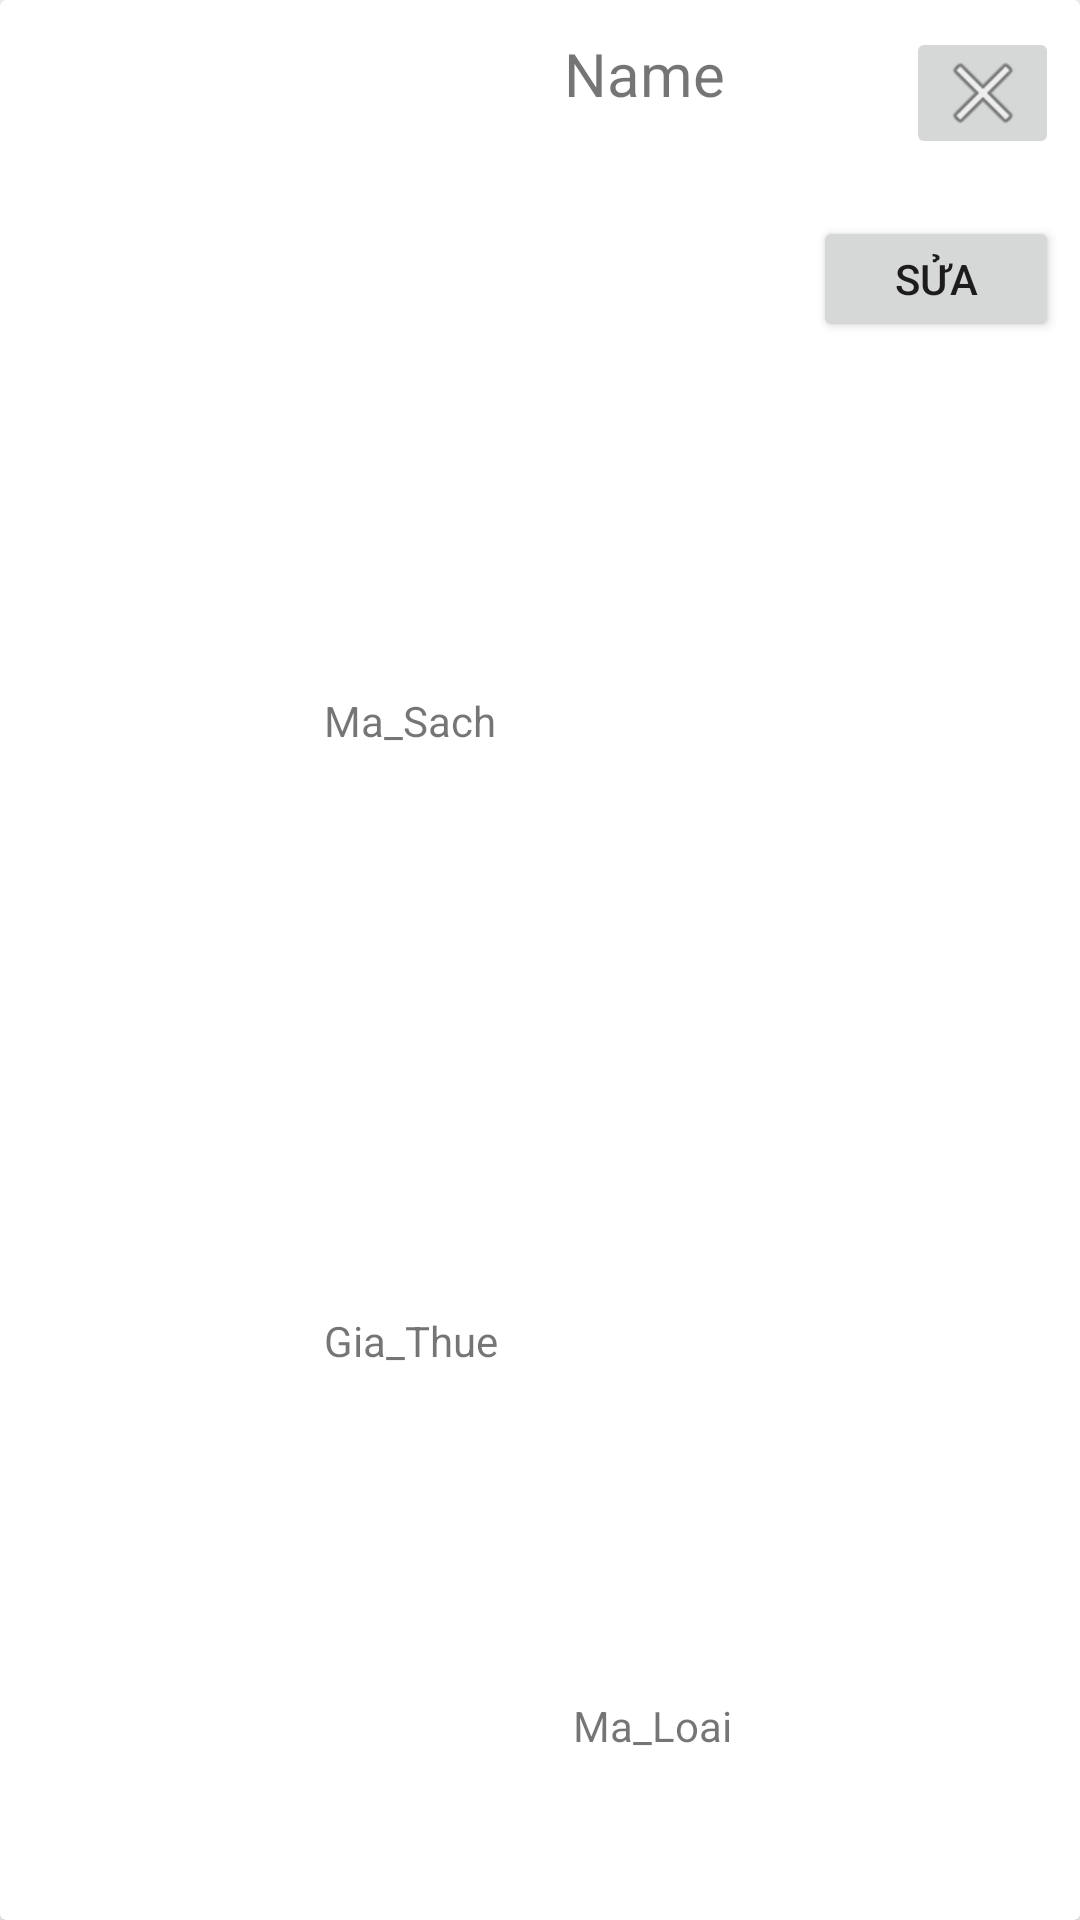

Locate icon controls on the screen. Image size 1080x1920, boxes as {"x1": x1, "y1": y1, "x2": x2, "y2": y2}.
close clear cancel: {"x1": 918, "y1": 45, "x2": 1047, "y2": 141}
